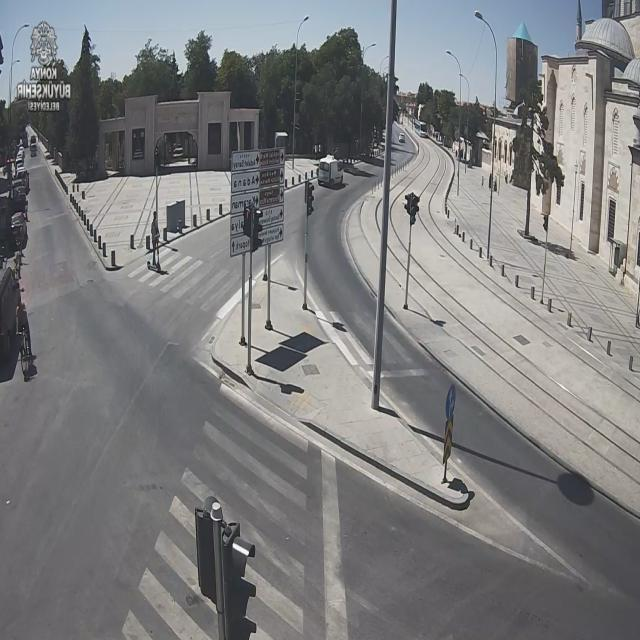Car: (11, 210, 33, 246), (398, 127, 410, 144)
Van: (315, 154, 346, 191)
